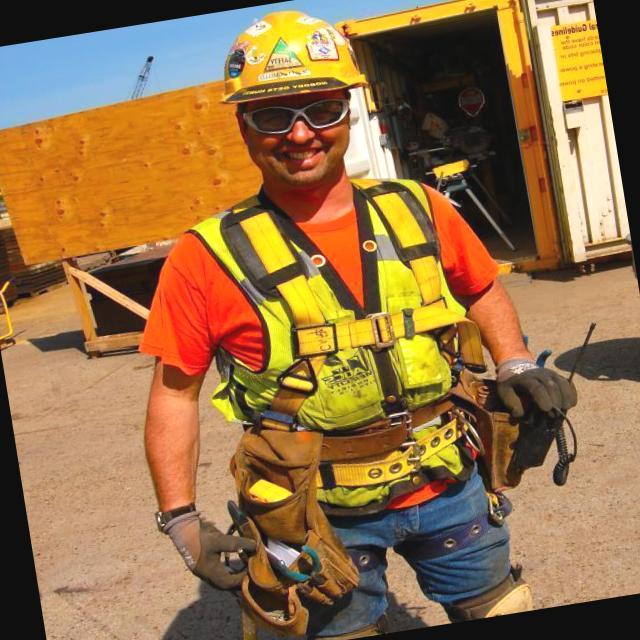gloves: (426, 318, 582, 482), (128, 482, 254, 625)
helmet: (197, 0, 380, 121)
vest: (162, 143, 505, 542)
